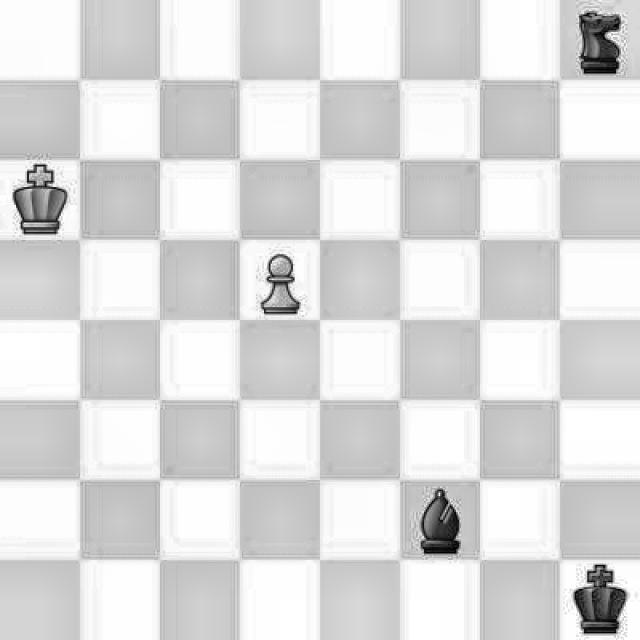Black Knight: (563, 5, 640, 79)
black bishop: (402, 484, 477, 556)
black king: (559, 561, 633, 640)
white king: (2, 160, 76, 239)
white pawn: (240, 240, 317, 315)
